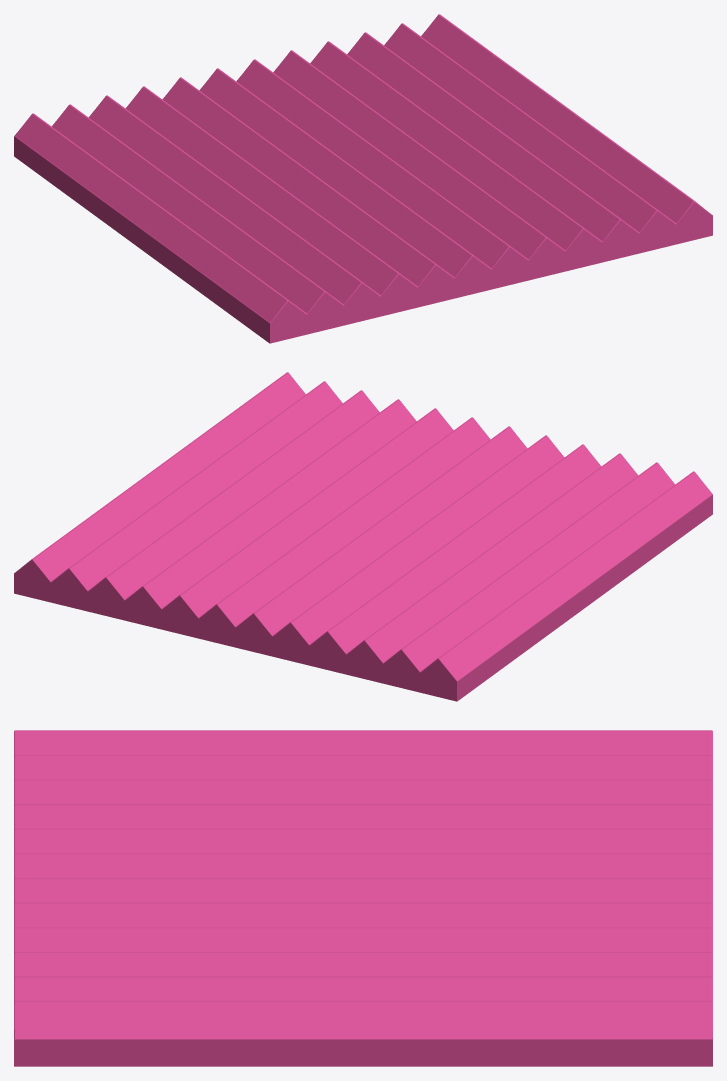
The model's file is AcousticInsulation_high.fbx.
3 renders of one model, top to bottom at view 1: azimuth 30°, elevation 25°; view 2: azimuth 150°, elevation 25°; view 3: azimuth 270°, elevation 25°, orthographic. The views are drawn at different scales.
Visible parts, largest first — view 1: AcousticInsulation_high; view 2: AcousticInsulation_high; view 3: AcousticInsulation_high.
Part boxes in pixels (box(x1,y1,x2,y2)): AcousticInsulation_high: box(14, 14, 712, 343); AcousticInsulation_high: box(14, 372, 712, 701); AcousticInsulation_high: box(14, 730, 712, 1066).
Size of the model in its own units: 30 by 2.5 by 30.
